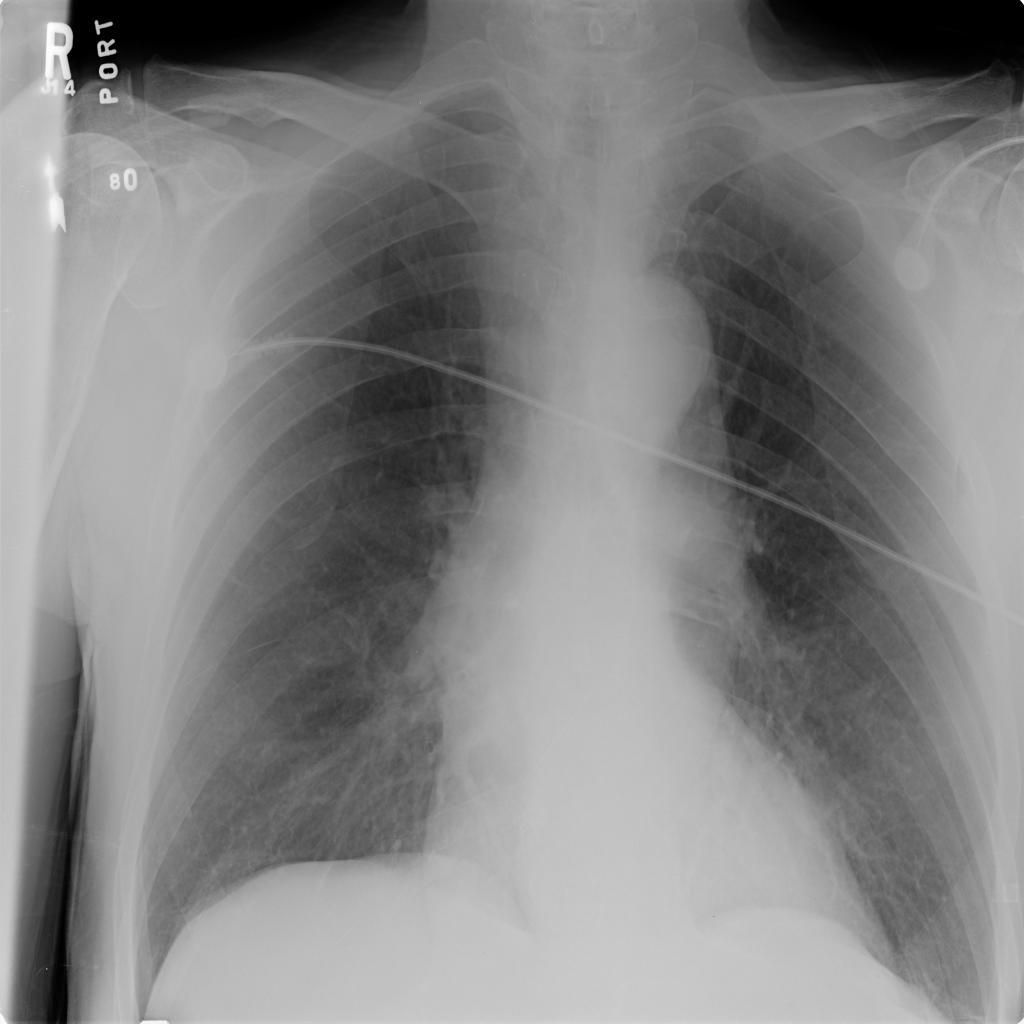Nodule: (255, 317, 304, 380), (252, 468, 291, 528)
